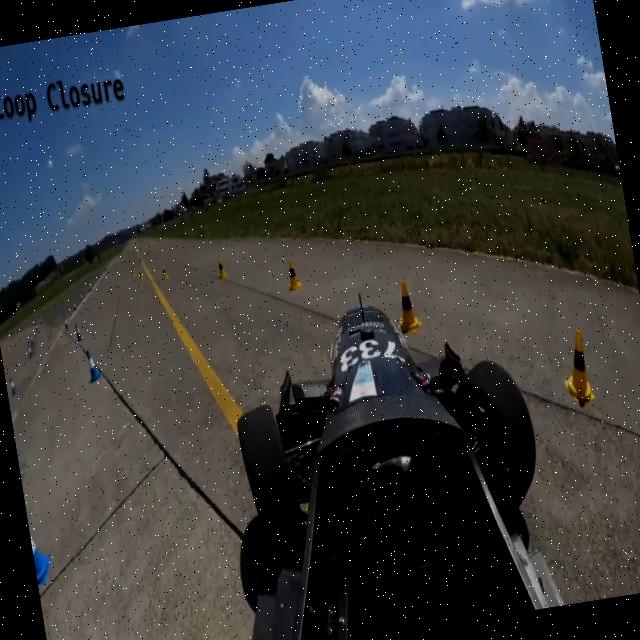blue_cone: (85, 347, 103, 385), (74, 322, 85, 344), (9, 376, 18, 396)
yellow_cone: (557, 327, 596, 404), (391, 278, 424, 336), (285, 257, 303, 292), (216, 258, 228, 280)
